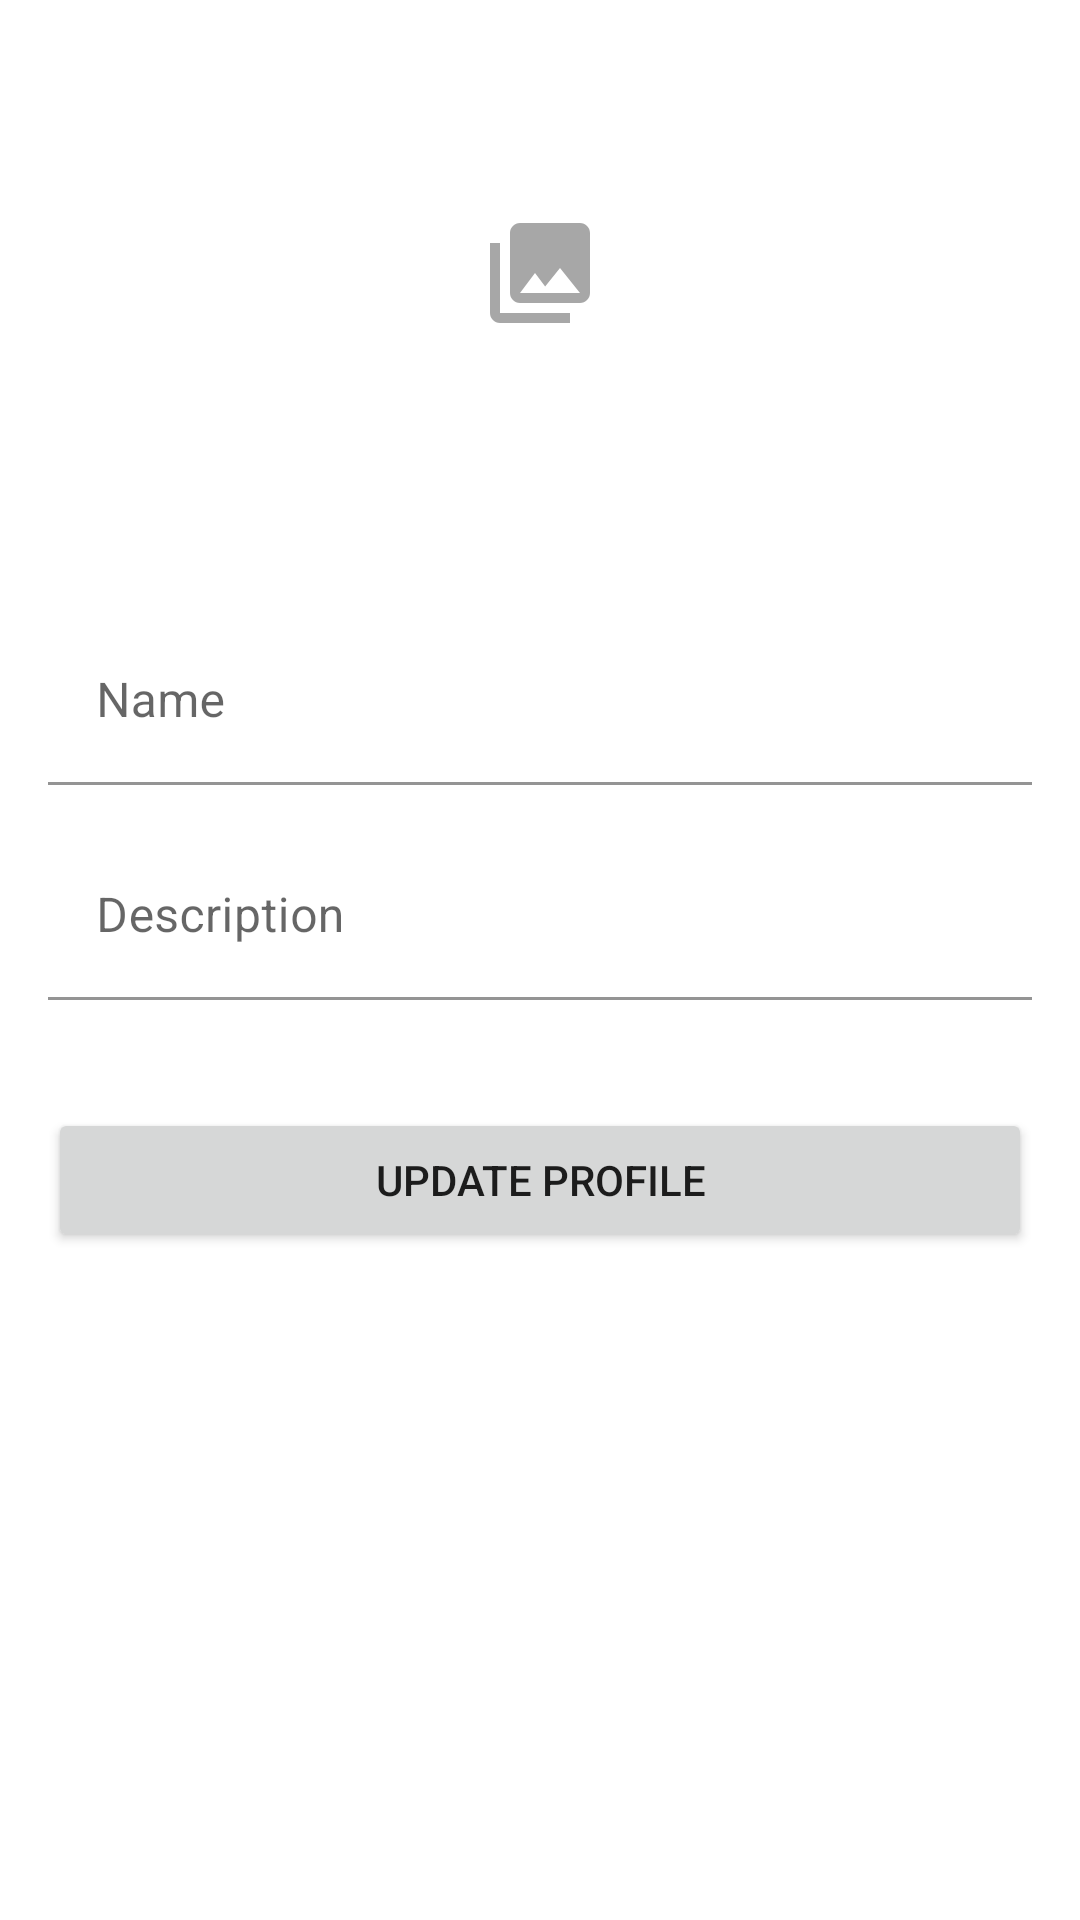

Screen size 1080*1920. Icon name, then its center in pixels as [x,y]:
photo library: [540,273]
